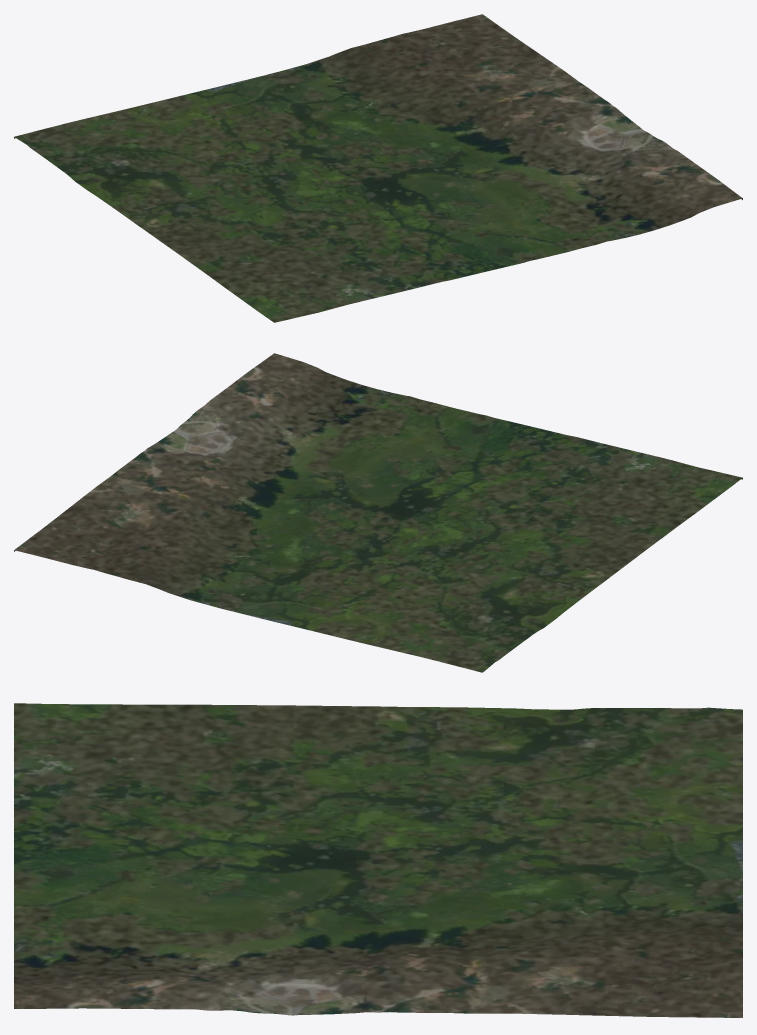
3 views of the same model, one above another, from view 1: azimuth 30°, elevation 25°; view 2: azimuth 150°, elevation 25°; view 3: azimuth 270°, elevation 25° (orthographic). The views are drawn at different scales.
Size of the model in its own units: 250 by 8.78 by 241.
Materials: 1 (1 with a texture image).
